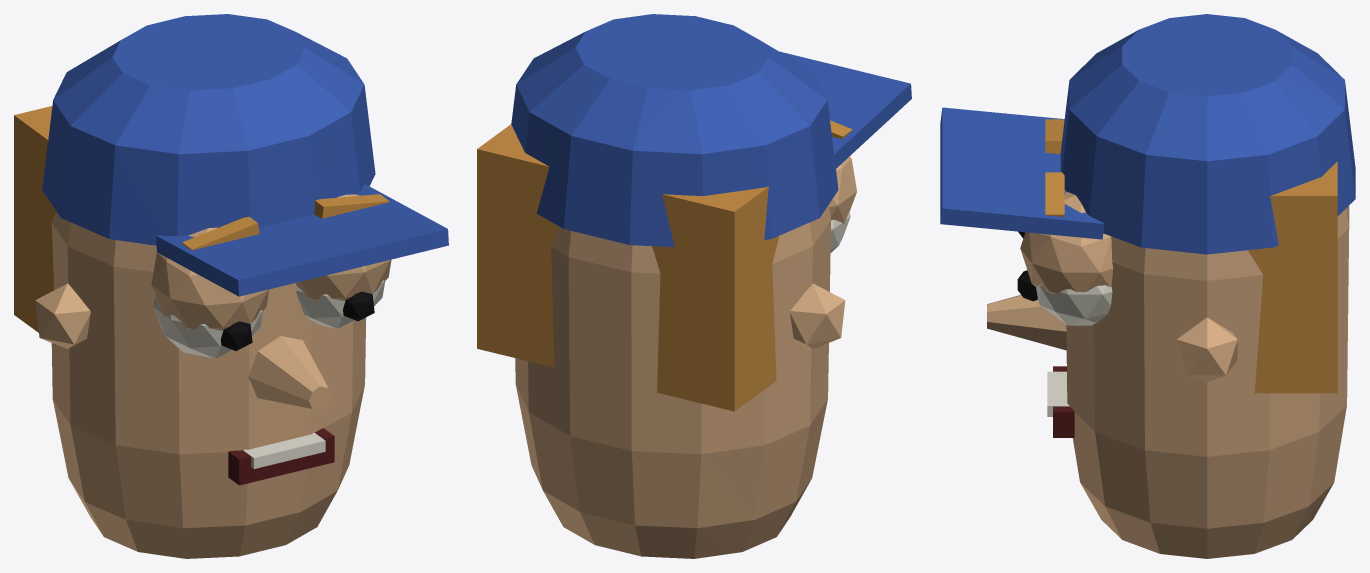
File: PersonHelper3Head.obj
3 renders of one model, left to right at view 1: azimuth 30°, elevation 25°; view 2: azimuth 150°, elevation 25°; view 3: azimuth 270°, elevation 25°, orthographic.
Parts seen in each view (by area): view 1: PersonHelper3Head; view 2: PersonHelper3Head; view 3: PersonHelper3Head.
Boxes of the visible parts, x1,y1,x2,y2 form: PersonHelper3Head: (14, 14, 448, 558); PersonHelper3Head: (477, 14, 911, 558); PersonHelper3Head: (940, 14, 1355, 558).
Bounding box in the file's own units: 0.355 × 0.46 × 0.3819.
